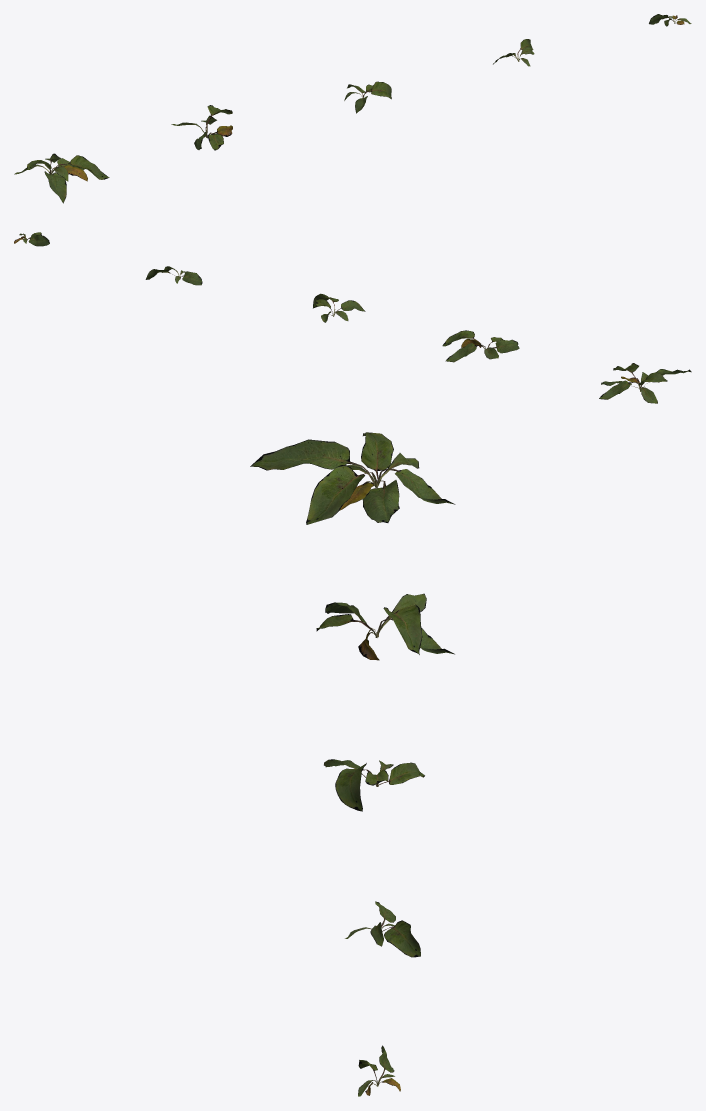
Rendered from weed_plant_02.glb.
3 renders of one model, top to bottom at view 1: azimuth 30°, elevation 25°; view 2: azimuth 150°, elevation 25°; view 3: azimuth 270°, elevation 25°, orthographic. The views are drawn at different scales.
Parts seen in each view (by area): view 1: weed_plant_02_a_LOD0, weed_plant_02_b_LOD0, weed_plant_02_c_LOD0, weed_plant_02_d_LOD0; view 2: weed_plant_02_a_LOD0, weed_plant_02_b_LOD0, weed_plant_02_c_LOD0, weed_plant_02_d_LOD0, weed_plant_02_e_LOD0; view 3: weed_plant_02_a_LOD0, weed_plant_02_b_LOD0, weed_plant_02_c_LOD0, weed_plant_02_d_LOD0.
Part boxes in pixels (left/top/right/bottom): weed_plant_02_a_LOD0: left=14, top=153, right=109, bottom=203; weed_plant_02_b_LOD0: left=171, top=105, right=232, bottom=150; weed_plant_02_c_LOD0: left=344, top=81, right=391, bottom=113; weed_plant_02_d_LOD0: left=493, top=39, right=534, bottom=66; weed_plant_02_a_LOD0: left=599, top=363, right=691, bottom=403; weed_plant_02_b_LOD0: left=442, top=330, right=519, bottom=362; weed_plant_02_c_LOD0: left=313, top=293, right=365, bottom=322; weed_plant_02_d_LOD0: left=145, top=266, right=202, bottom=285; weed_plant_02_e_LOD0: left=14, top=232, right=49, bottom=246; weed_plant_02_a_LOD0: left=250, top=432, right=455, bottom=524; weed_plant_02_b_LOD0: left=316, top=593, right=454, bottom=660; weed_plant_02_c_LOD0: left=324, top=759, right=424, bottom=811; weed_plant_02_d_LOD0: left=345, top=901, right=420, bottom=957.
Bounding box in the file's own units: 2.13 × 0.0747 × 0.2909.
1 material, 1 textured.
